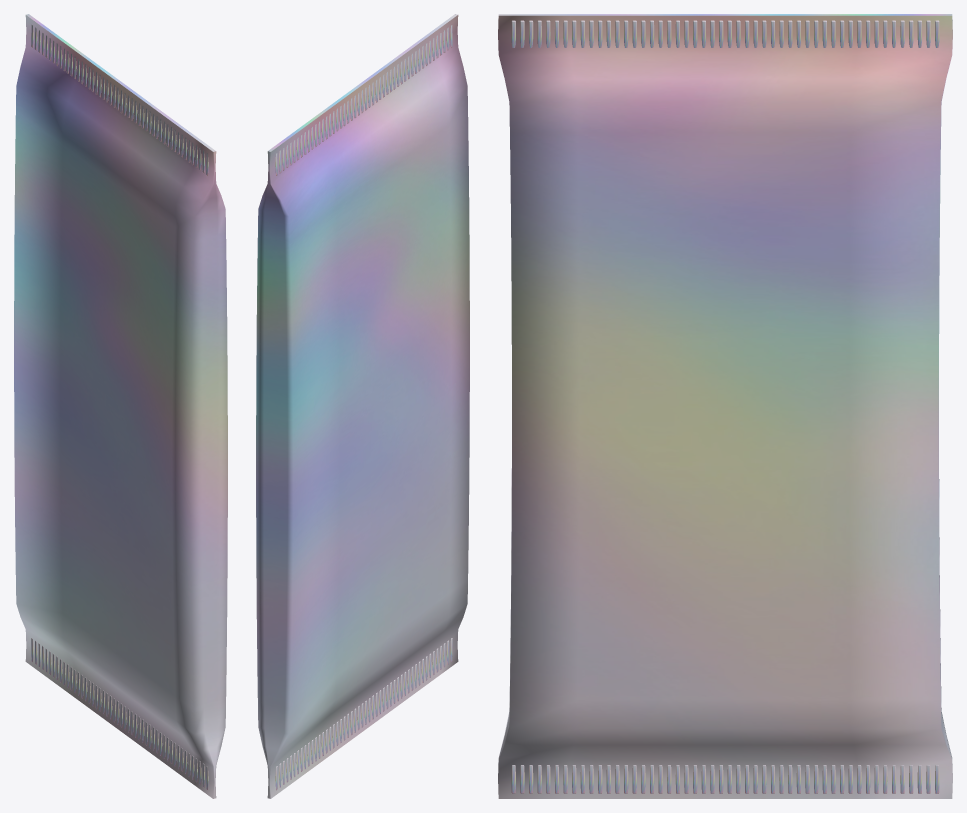
Rendered from pack-model.glb.
3 views of the same model, side by side, from view 1: azimuth 30°, elevation 25°; view 2: azimuth 150°, elevation 25°; view 3: azimuth 270°, elevation 25° (orthographic). The views are drawn at different scales.
Parts seen in each view (by area): view 1: body, Cap 1; view 2: body, Cap 1; view 3: body, Cap 1.
Part boxes in pixels (x1=…): body: x1=14, y1=15, x2=227, y2=798; Cap 1: x1=26, y1=14, x2=215, y2=151; body: x1=256, y1=15, x2=469, y2=798; Cap 1: x1=268, y1=14, x2=457, y2=151; body: x1=498, y1=15, x2=952, y2=798; Cap 1: x1=498, y1=14, x2=952, y2=15.
Bounding box in the file's own units: 121101 × 2000000 × 1053043.
Materials: 1 (1 with a texture image).
